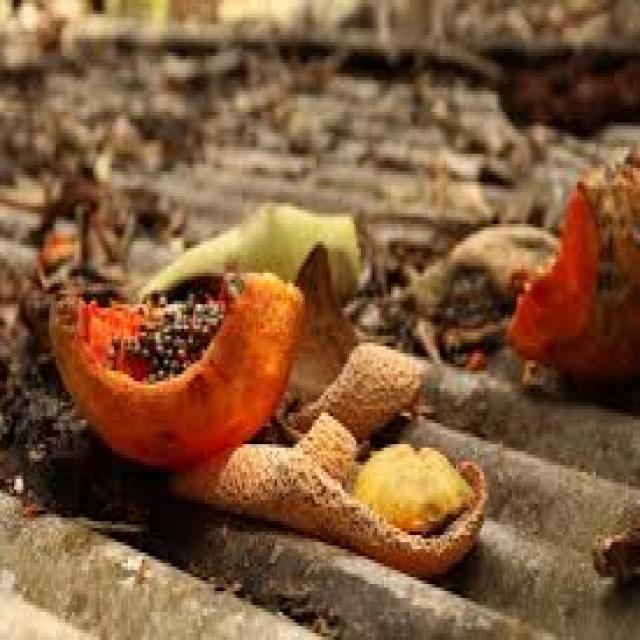food_waste: (51, 273, 300, 465), (507, 161, 638, 374)
